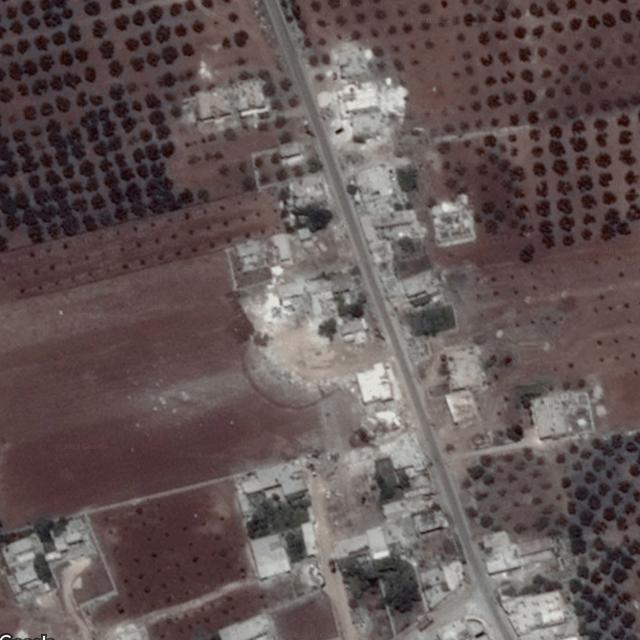damaged_building: (321, 49, 406, 148), (372, 431, 430, 471), (312, 266, 367, 301), (286, 173, 334, 201)
